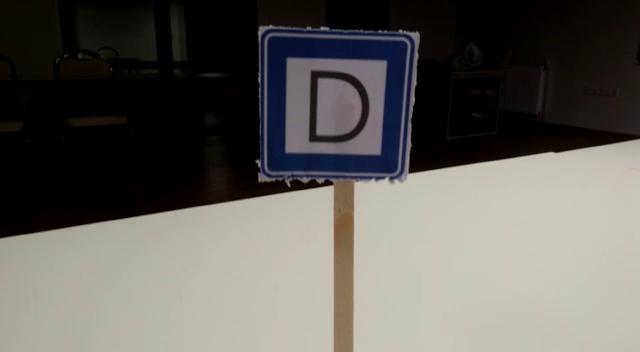durak: (260, 32, 412, 178)
